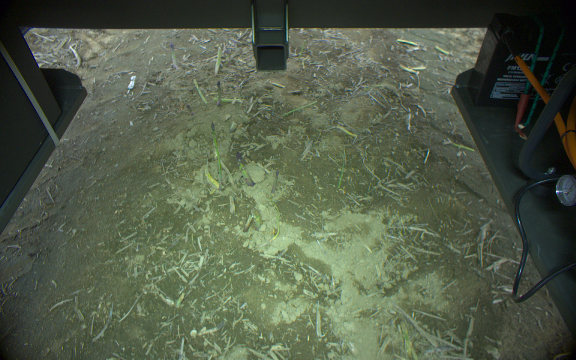aspa: (208, 119, 226, 192), (232, 149, 255, 188), (279, 97, 319, 119), (193, 75, 208, 105), (167, 43, 179, 70), (213, 44, 222, 78), (215, 78, 223, 105)
